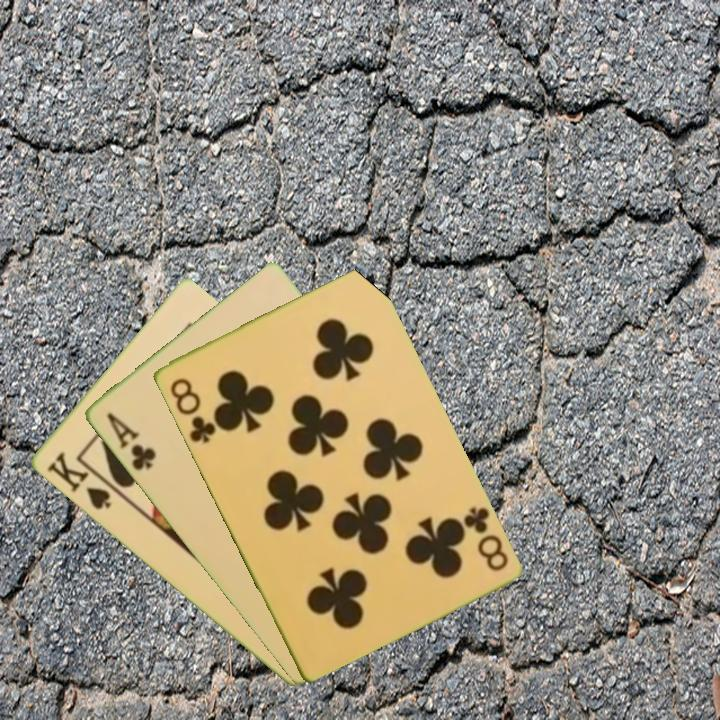8c: (165, 374, 218, 446), (459, 503, 511, 574)
Ac: (102, 409, 159, 474)
Ks: (43, 448, 121, 513)
